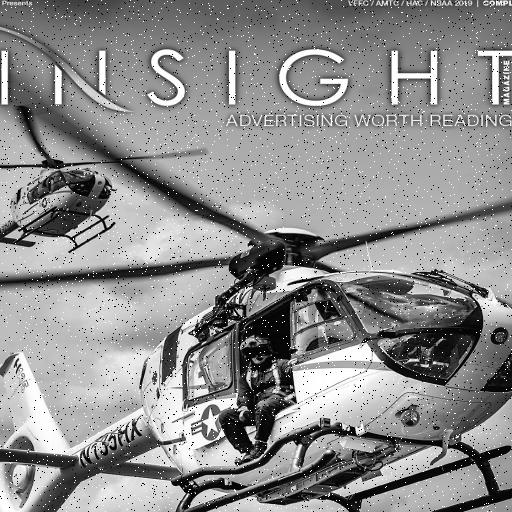helicopter: (1, 224, 512, 512), (1, 124, 208, 271)
